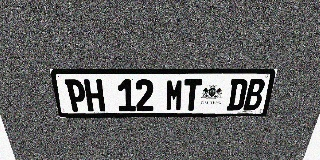1: (116, 79, 136, 111)
2: (135, 79, 153, 111)
B: (243, 79, 266, 110)
D: (226, 79, 248, 110)
H: (83, 79, 105, 111)
M: (165, 79, 184, 111)
P: (64, 79, 88, 112)
T: (183, 79, 202, 111)
